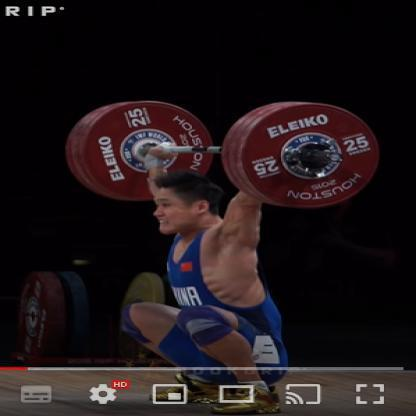barbell: (62, 96, 380, 212)
